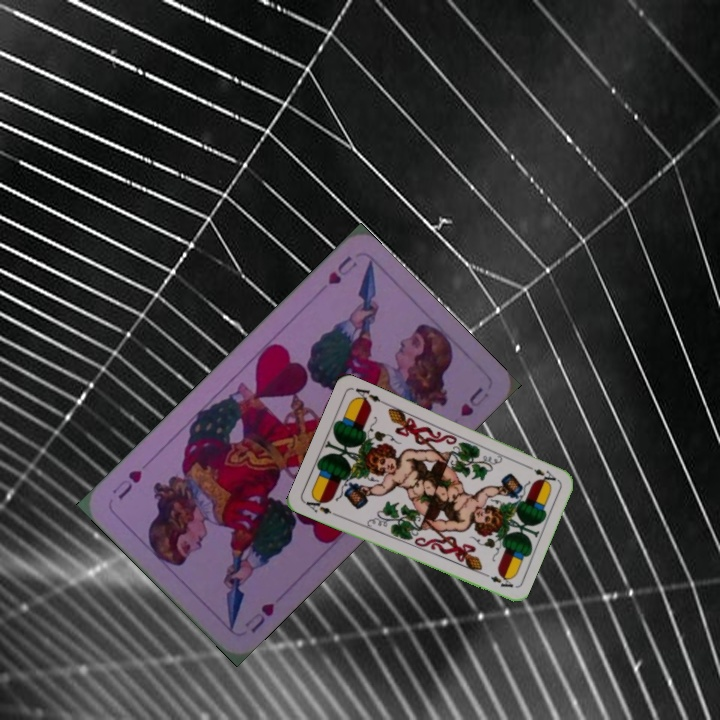EA: (301, 493, 340, 519), (521, 461, 559, 484)
HU: (241, 599, 277, 636), (323, 251, 360, 287)
